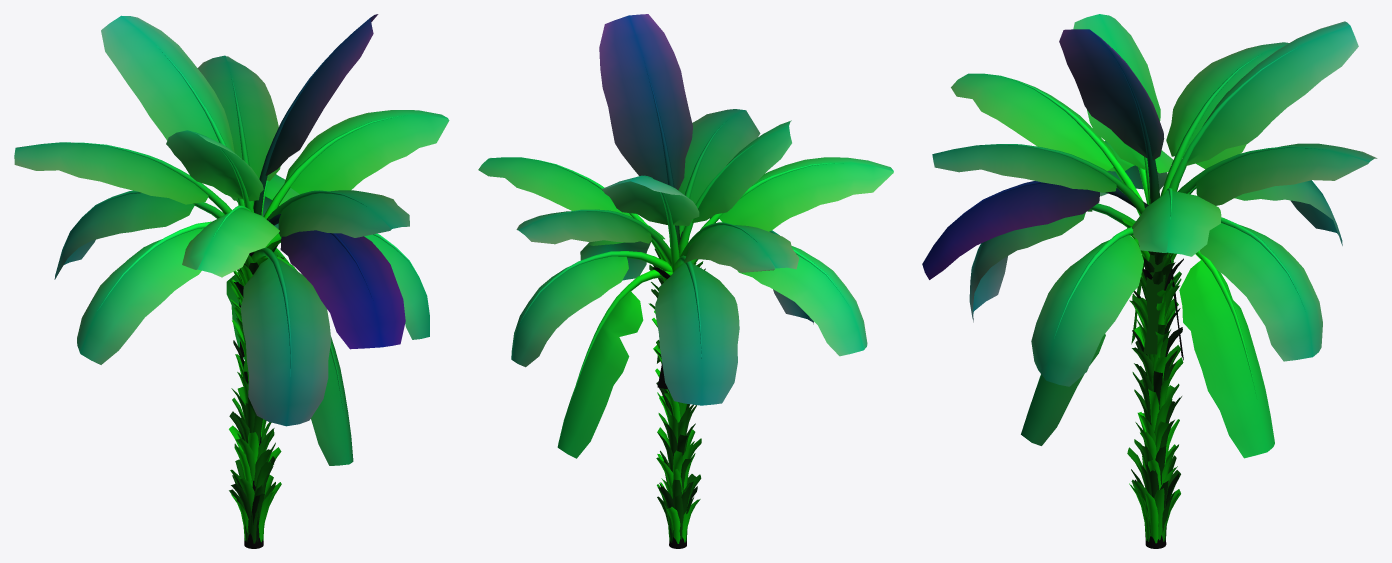
File: BananaPlant.fbx
The picture shows the model from 3 angles, left to right: view 1: azimuth 30°, elevation 25°; view 2: azimuth 150°, elevation 25°; view 3: azimuth 270°, elevation 25°; orthographic projection. The views are drawn at different scales.
Parts seen in each view (by area): view 1: bananaplant; view 2: bananaplant; view 3: bananaplant.
Part boxes in pixels (x1=…): bananaplant: x1=14, y1=14, x2=449, y2=548; bananaplant: x1=478, y1=14, x2=893, y2=548; bananaplant: x1=922, y1=14, x2=1377, y2=548.
Bounding box in the file's own units: 224 × 292 × 216.
